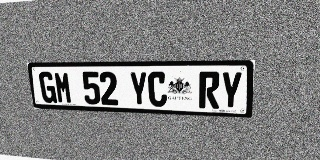2: (99, 72, 118, 105)
5: (82, 72, 101, 105)
C: (148, 72, 167, 107)
G: (38, 72, 57, 103)
M: (54, 72, 73, 104)
R: (199, 72, 220, 109)
Y: (220, 72, 243, 110), (129, 72, 148, 106)
